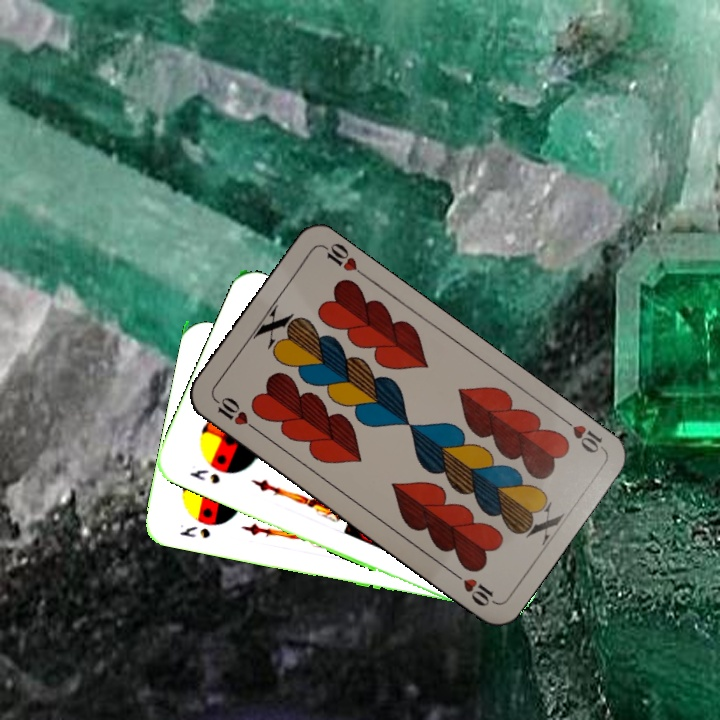H10: (556, 412, 607, 456), (210, 392, 261, 435)
SK: (185, 465, 223, 487), (176, 522, 213, 541)
